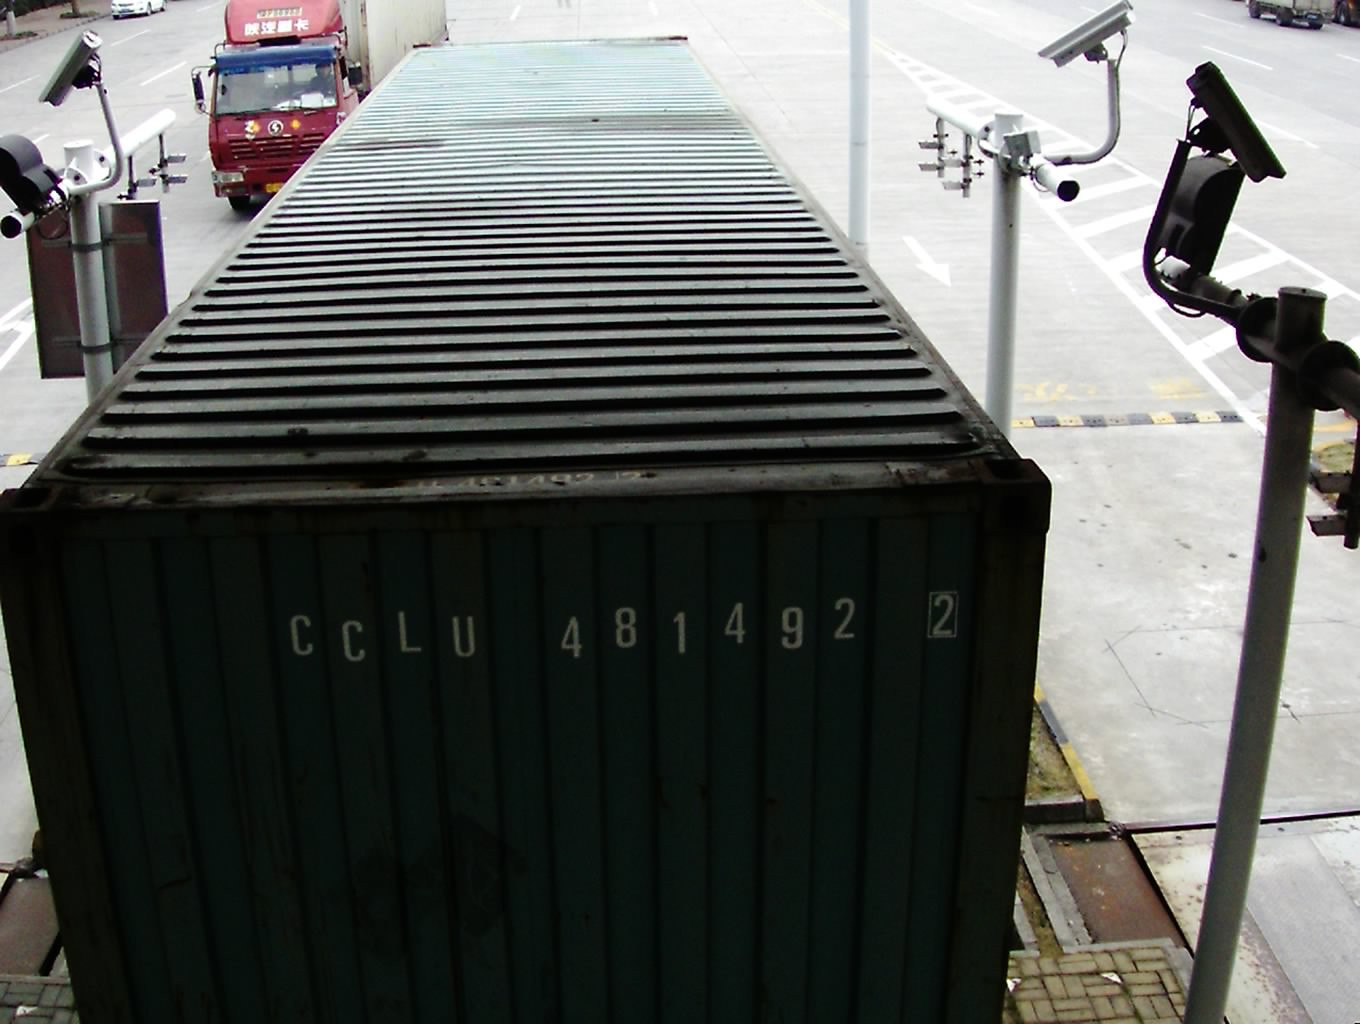words: (266, 578, 964, 667)
